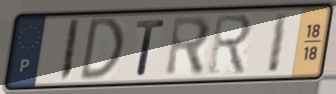D: (77, 16, 126, 84)
I: (264, 10, 291, 76), (57, 18, 82, 84)
R: (163, 14, 213, 79), (206, 13, 254, 77)
T: (134, 18, 166, 78)
